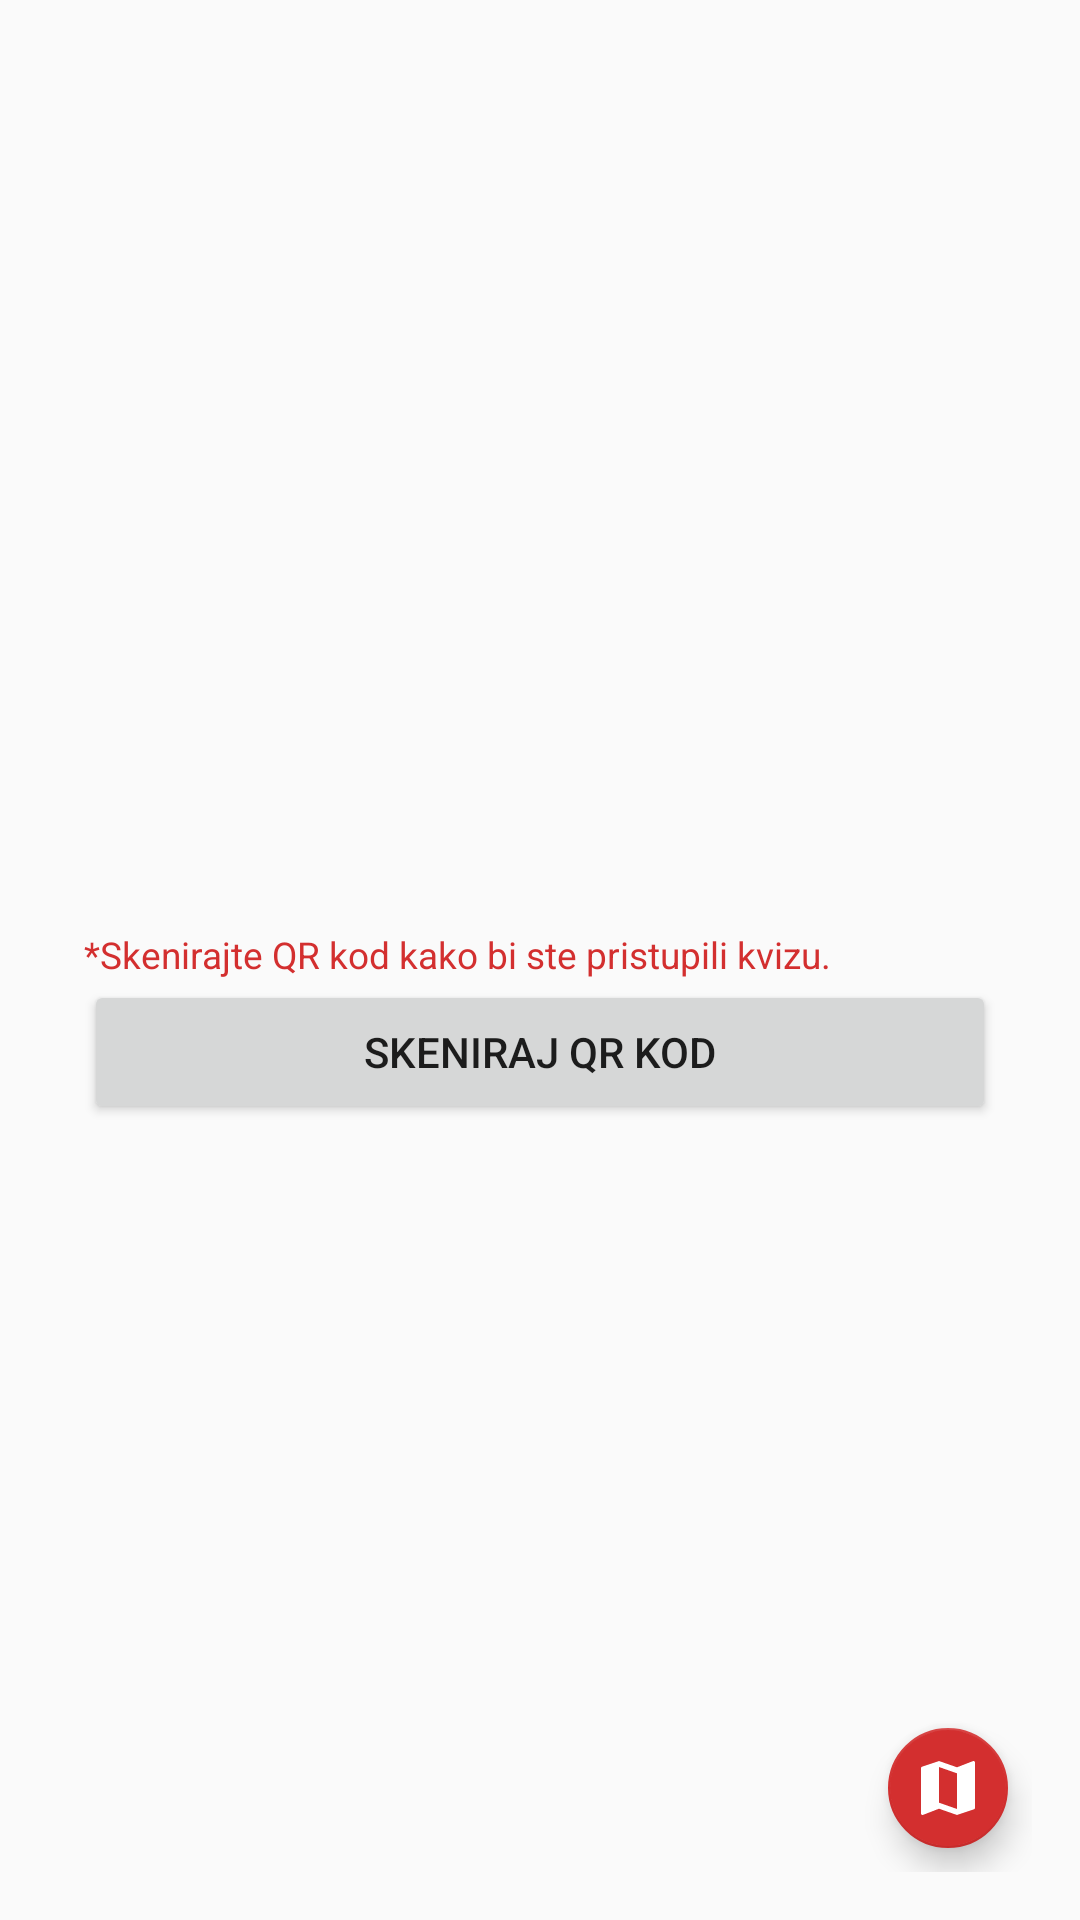

Icon click points for this 1080 x 1920 phone screenshot, format [x,y]:
map: [948,1788]
